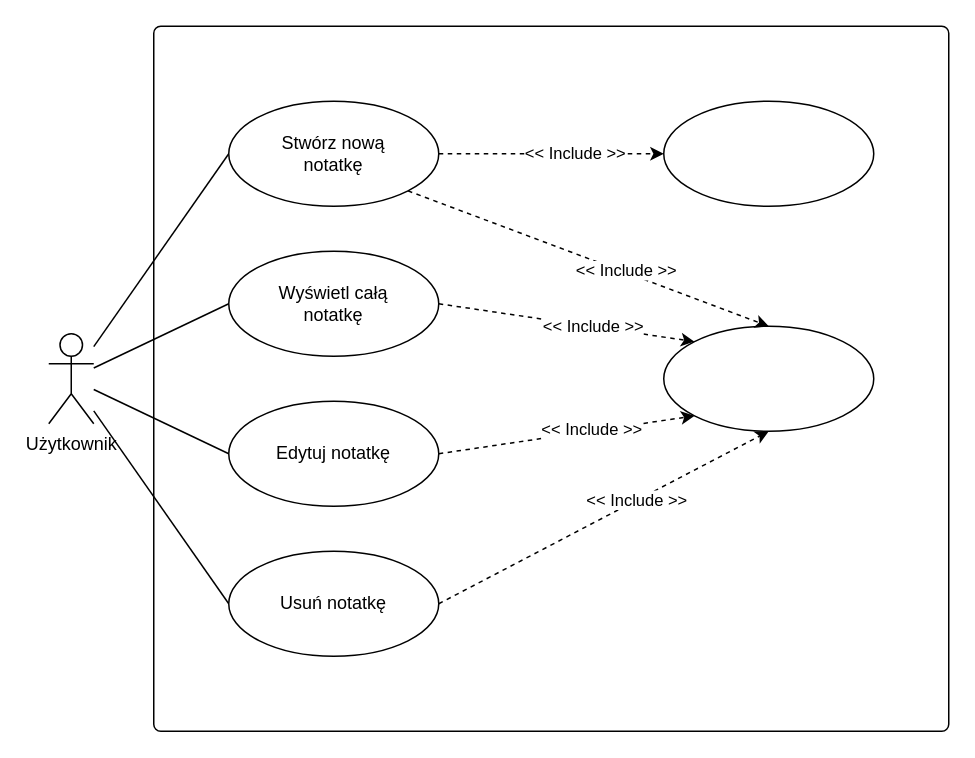
Image size: 975x758. Some labels were removed from this diagram. The shapes that lost their labels are listed below. From the top down, each one's centre as x and y in pixels, then its label:
At point (768, 153): "Wybierz budżet".
At point (768, 378): "Autoryzuj użytkownika".
